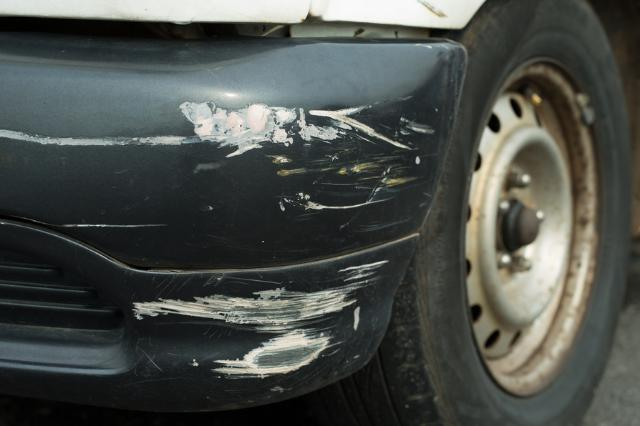Bumper: (0, 26, 467, 412)
